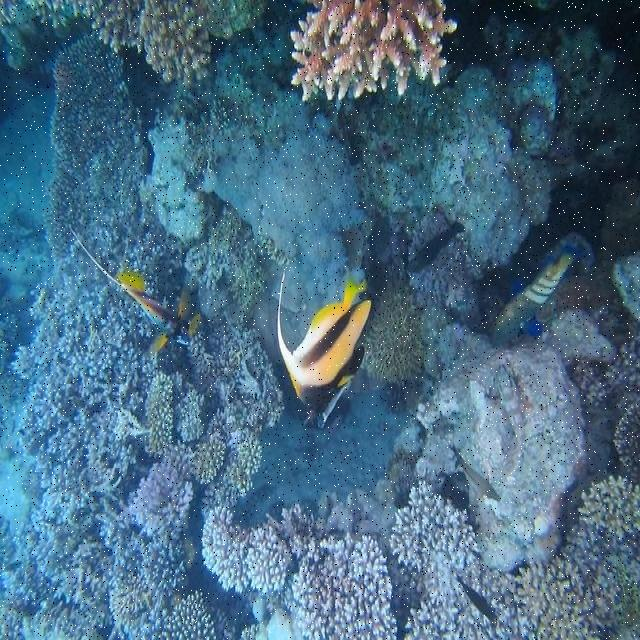fish: (73, 229, 202, 354), (278, 271, 372, 412), (493, 234, 595, 349), (448, 442, 500, 502), (408, 222, 467, 273), (456, 577, 497, 620)
reefs: (0, 33, 639, 639), (28, 2, 265, 80), (290, 0, 458, 100)
